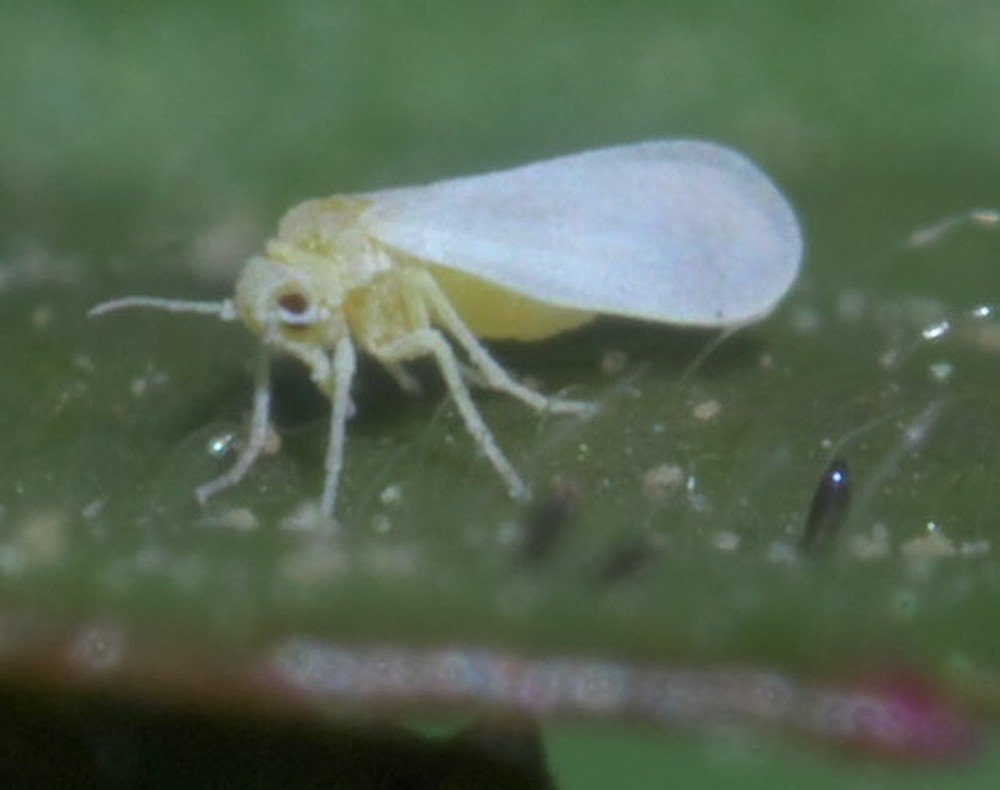Mosca Blanca: (90, 144, 855, 496)
